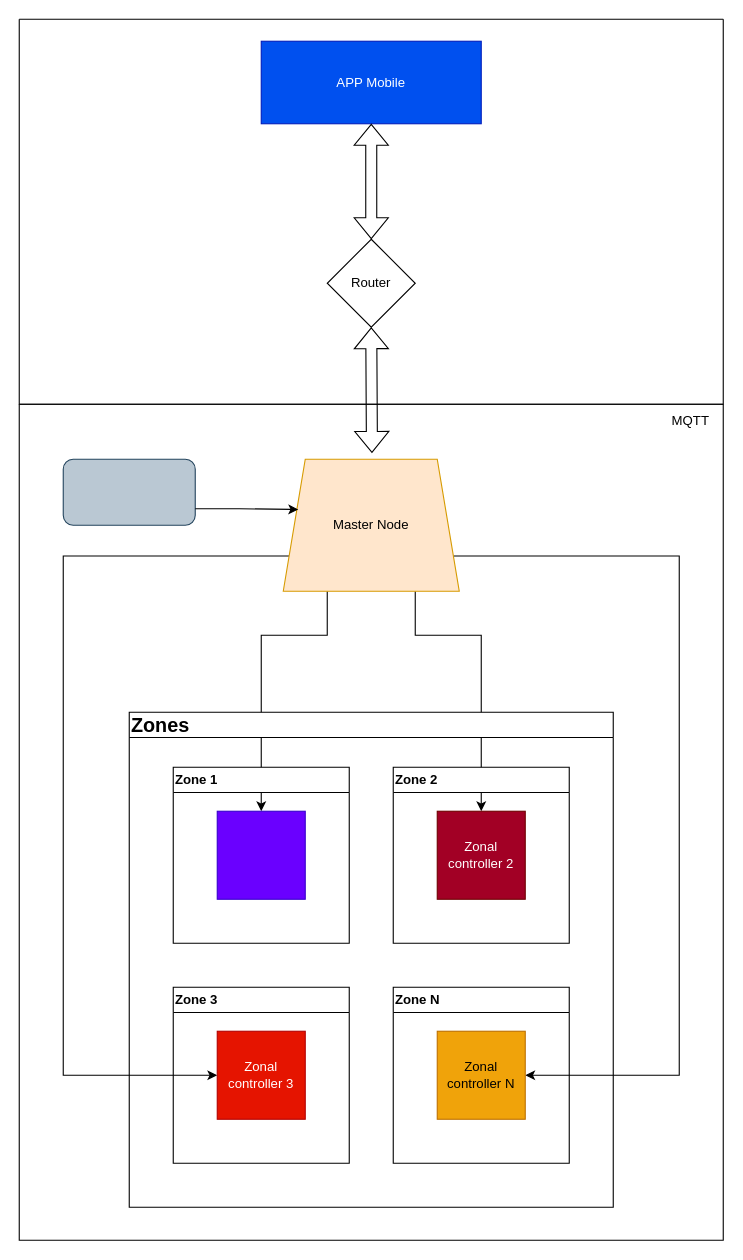
Some shapes in this 743 by 1260 pixel diagram are drawn without their labels. Here are the shapes that lost their labels. From the top down, the centre of each, then its label:
At (370,211): "HTTP".
At (128,491): "Sensor".
At (260,854): "Zonal controller 1".
